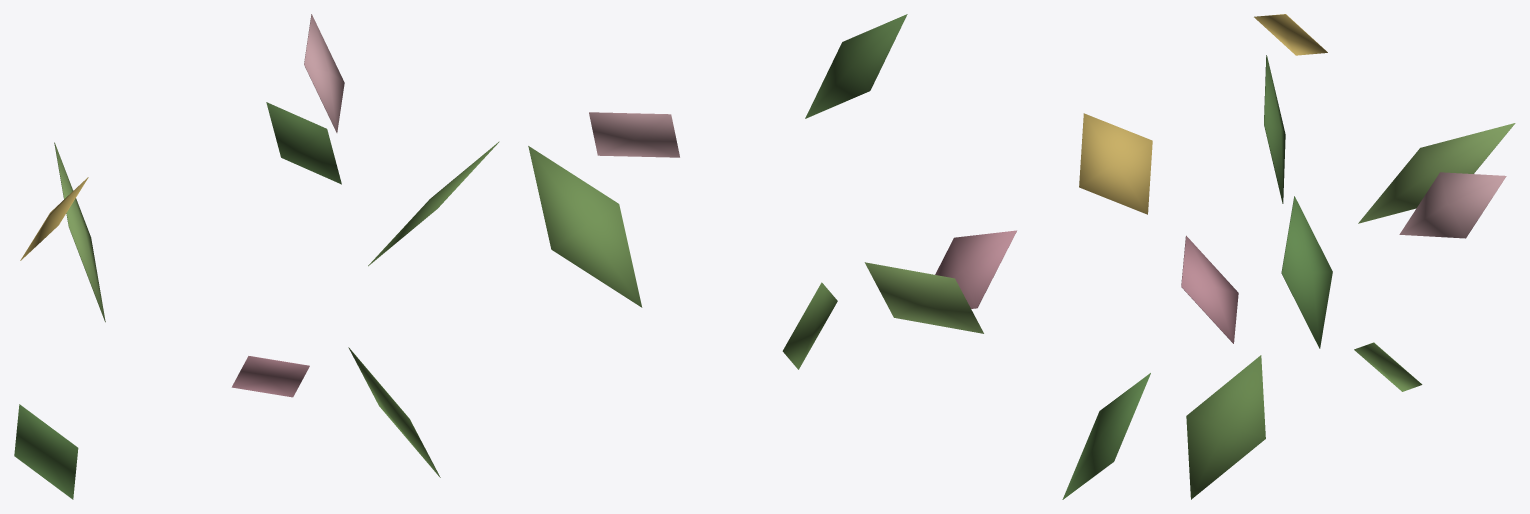
The model's file is fx_leaf_puff.glb.
3 renders of one model, left to right at view 1: azimuth 30°, elevation 25°; view 2: azimuth 150°, elevation 25°; view 3: azimuth 270°, elevation 25°, orthographic. The views are drawn at different scales.
Parts seen in each view (by area): view 1: fx_leaf_puff; view 2: fx_leaf_puff; view 3: fx_leaf_puff.
Boxes of the visible parts, left/top/right/bottom form: fx_leaf_puff: left=14, top=14, right=499, bottom=499; fx_leaf_puff: left=528, top=14, right=1152, bottom=499; fx_leaf_puff: left=1181, top=14, right=1515, bottom=499.
Size of the model in its own units: 0.5 by 0.35 by 0.28.
